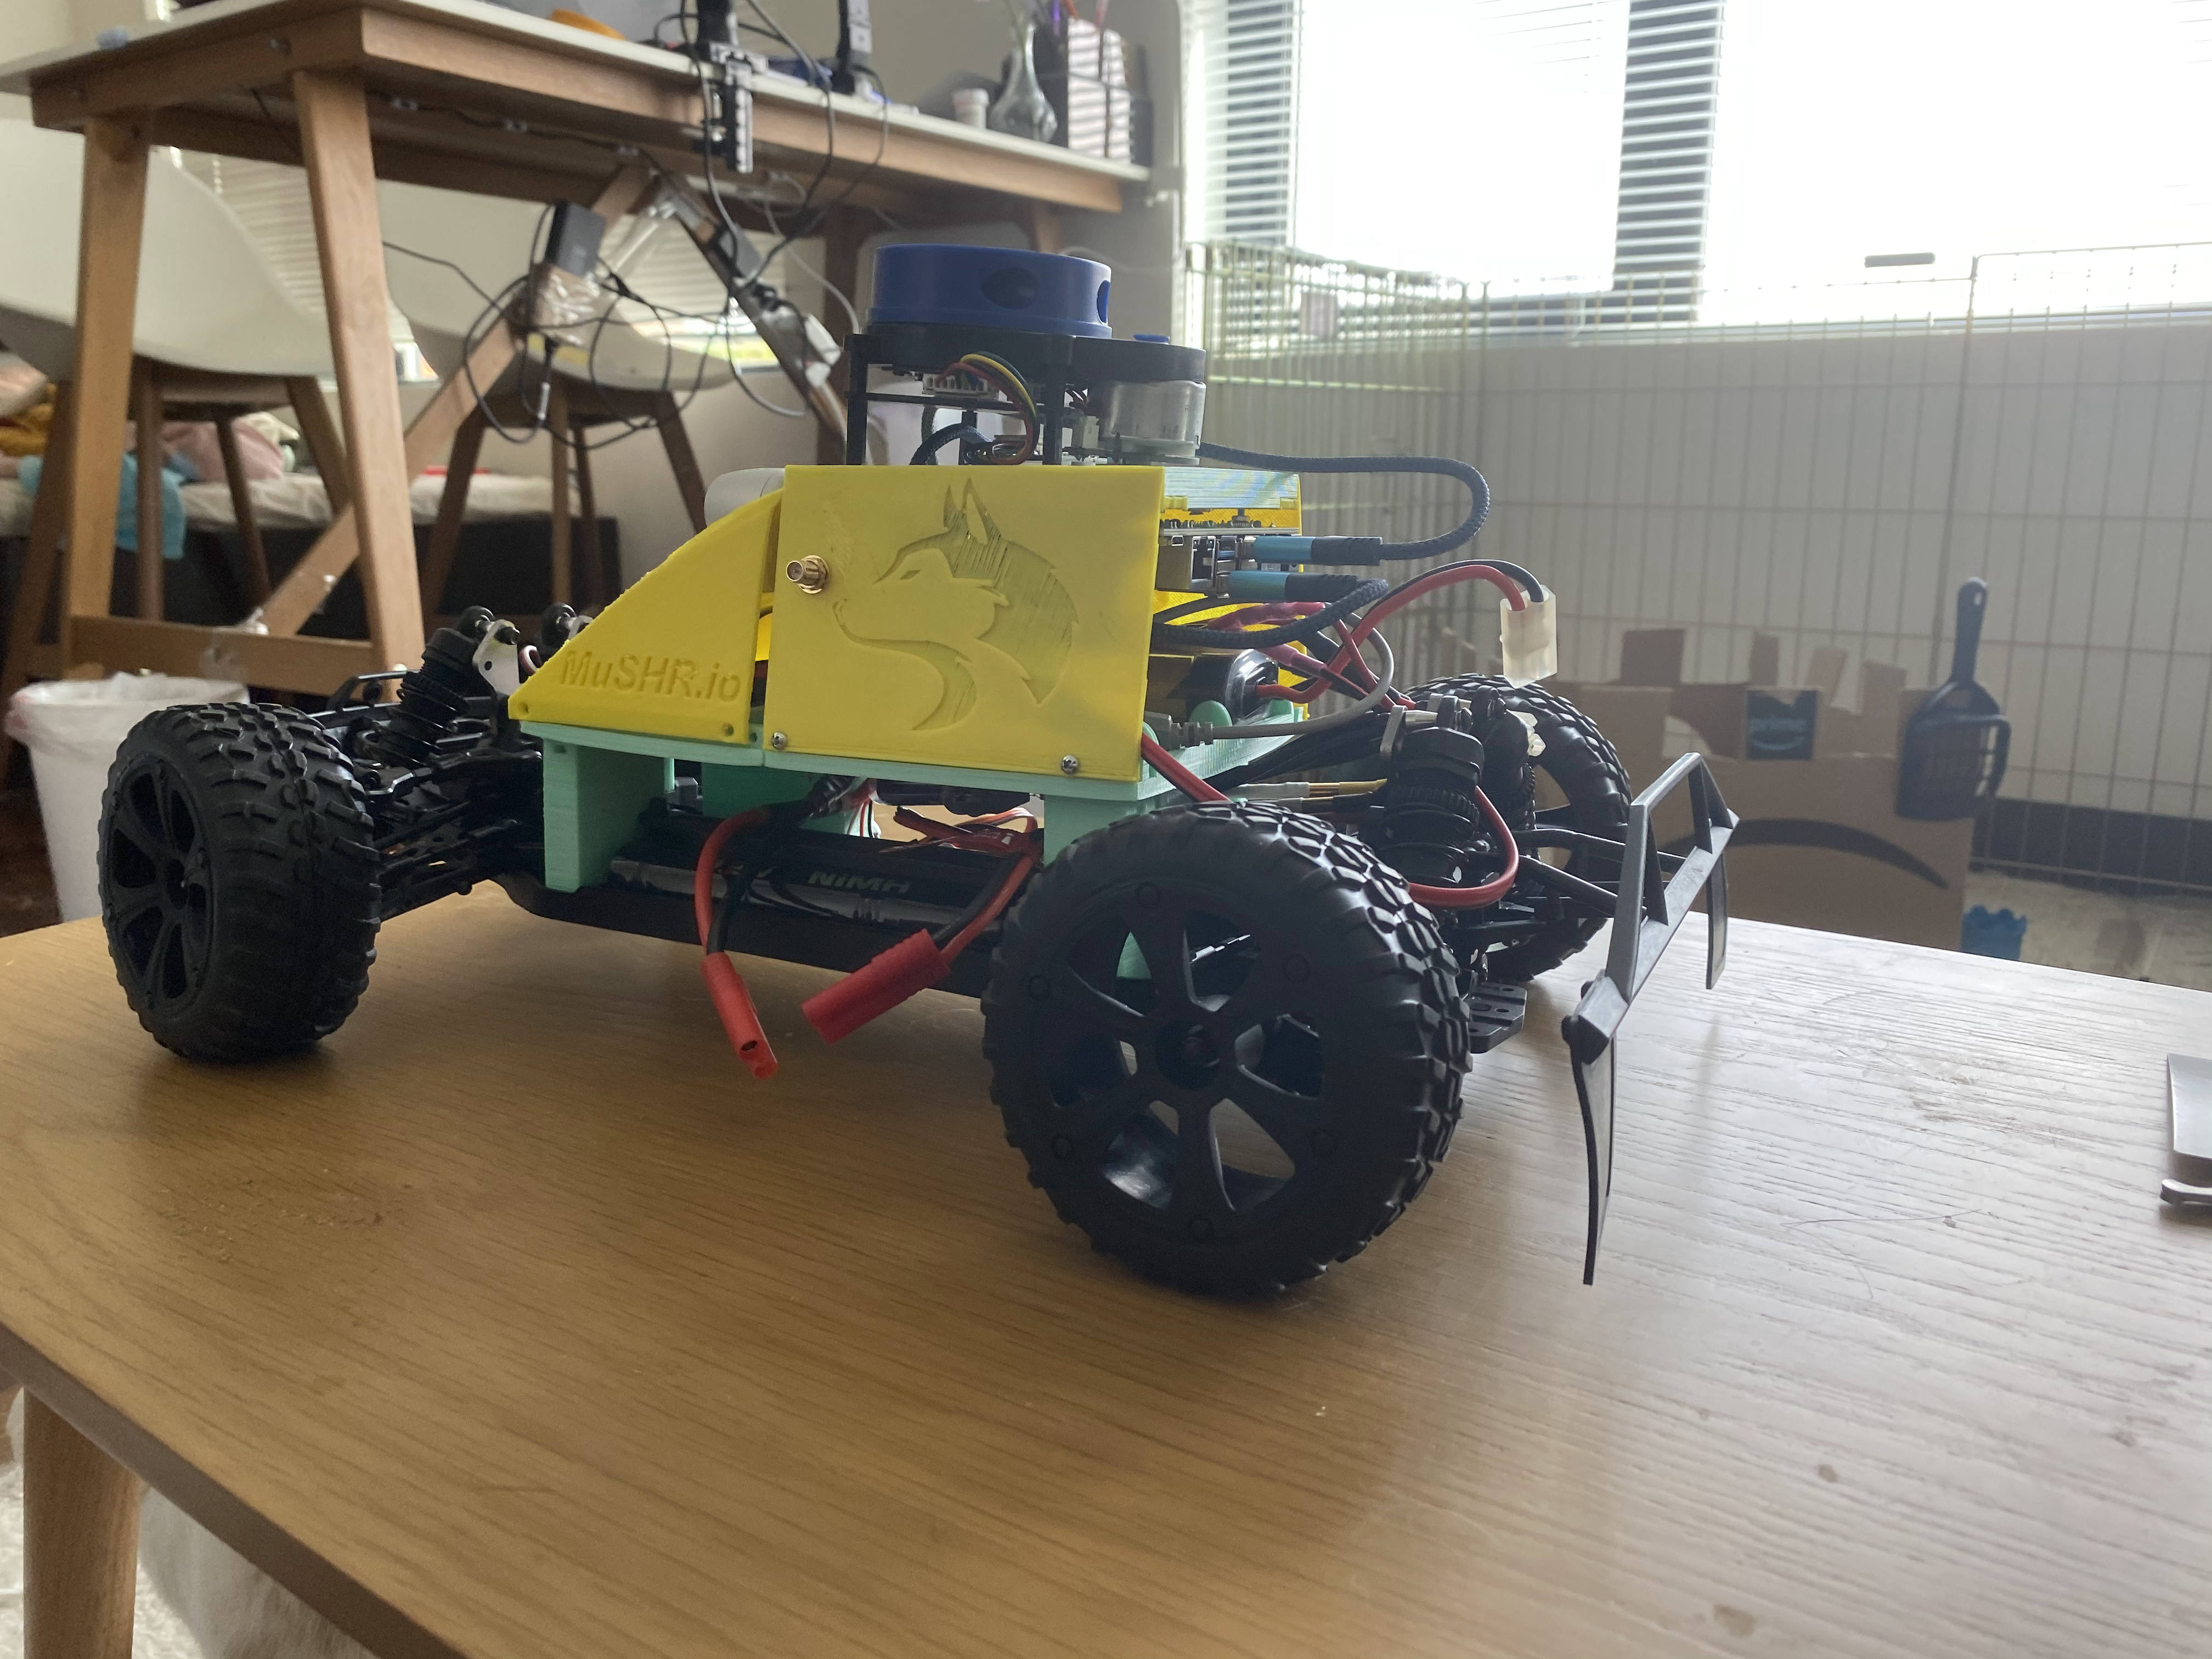mushr_car: (80, 200, 1763, 1321)
